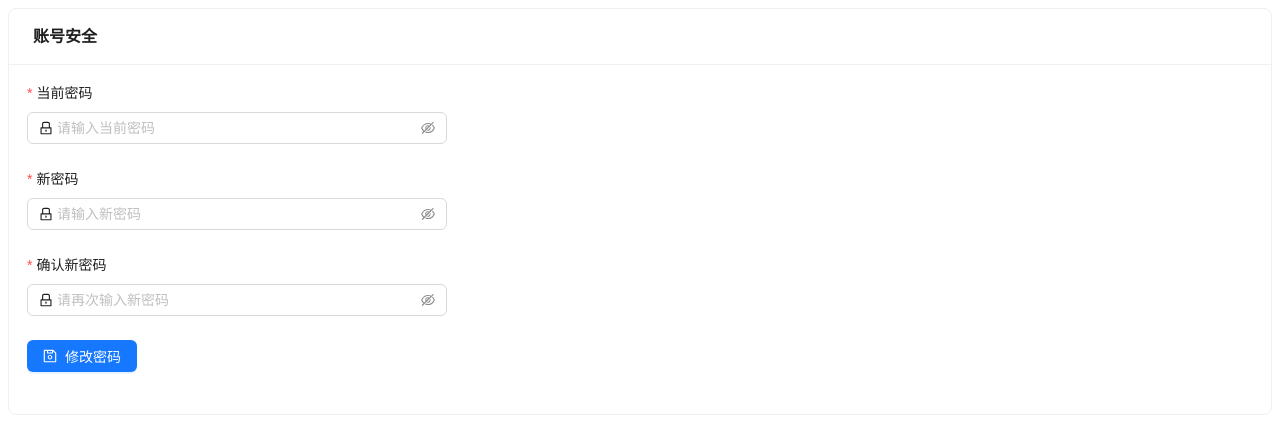
Scenario: ChangePasswordPanel › shows validation error when passwords do not match
The image size is (1280, 432).
Type "oldPass1" into the password field with placeholder "请输入当前密码" at coordinates (237, 128), box x1=57 y1=117 x2=417 y2=139
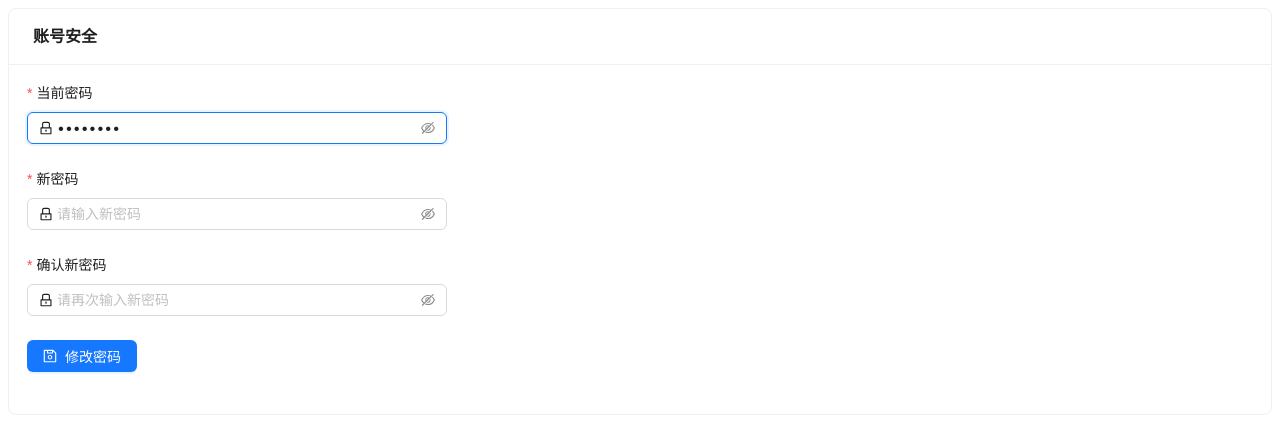
Type "newPass1" into the password field with placeholder "请输入新密码" at coordinates (237, 214), box x1=57 y1=203 x2=417 y2=225
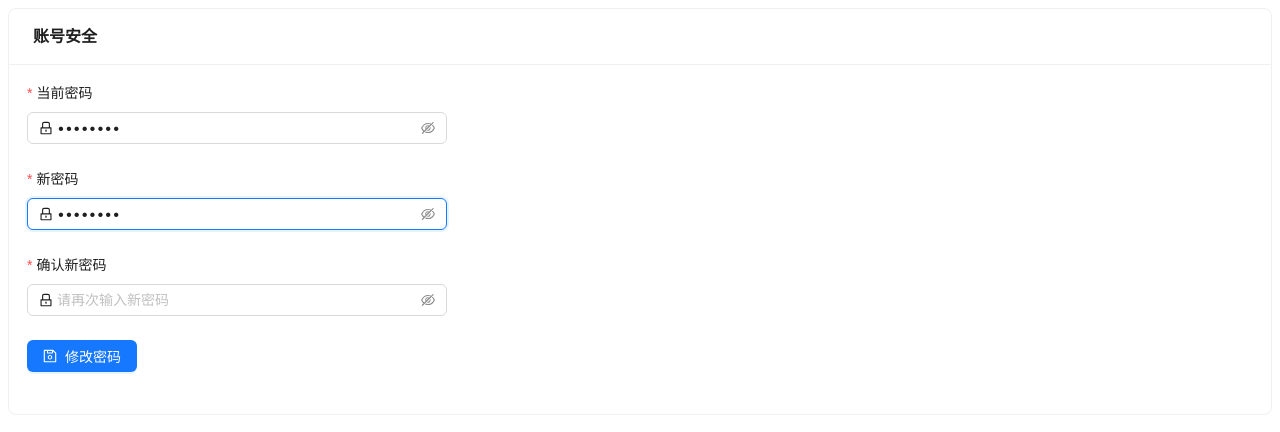
Type "different" into the password field with placeholder "请再次输入新密码" at coordinates (237, 300), box x1=57 y1=289 x2=417 y2=311
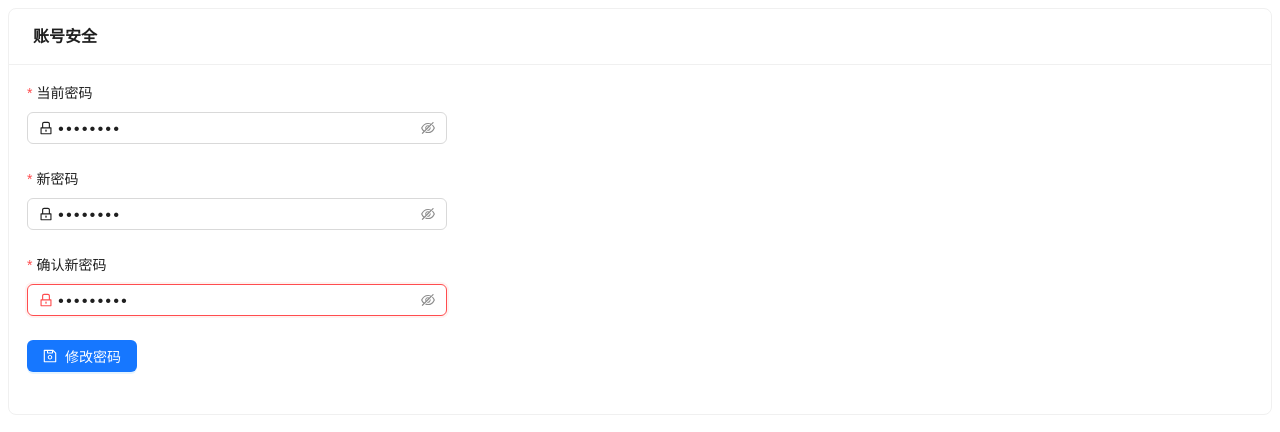
Click the button "修改密码" at coordinates (82, 356), box x1=27 y1=340 x2=137 y2=372
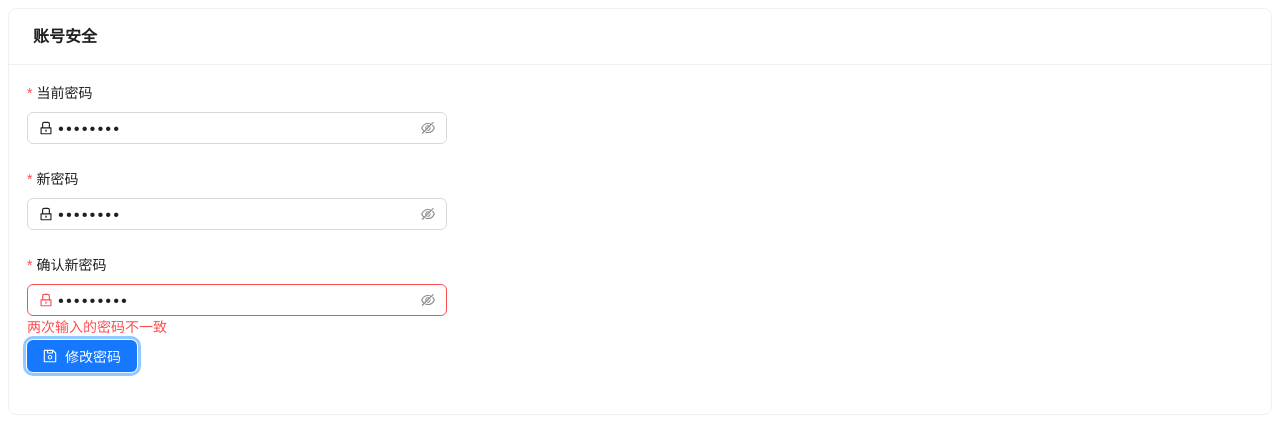
Expected: the text "两次输入的密码不一致" is shown, x1=27 y1=318 x2=167 y2=335
